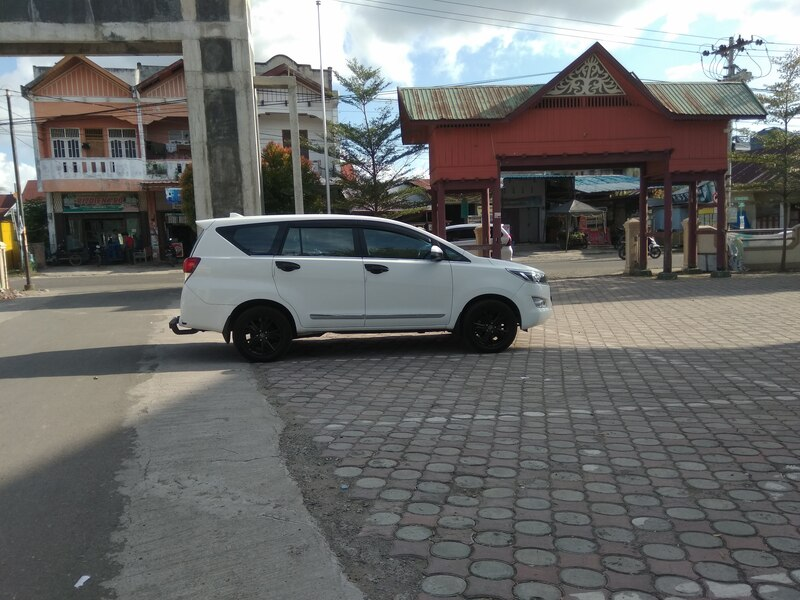car: (176, 207, 558, 363), (425, 223, 520, 268)
motorcycle: (617, 233, 666, 261)
